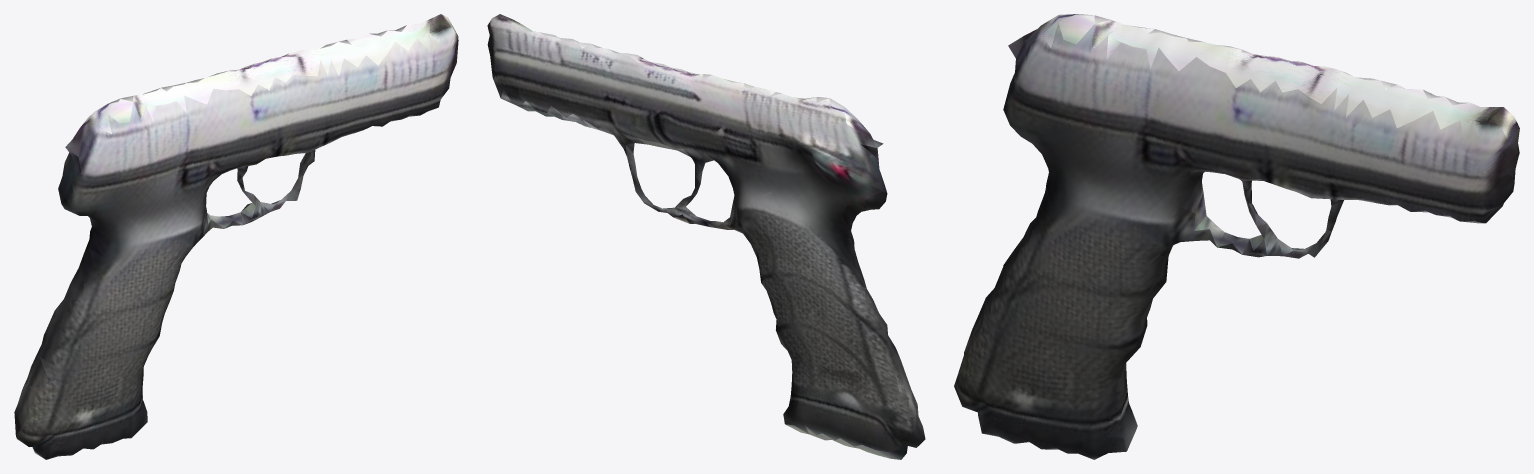
The model's file is pistol1-cv.glb.
3 renders of one model, left to right at view 1: azimuth 30°, elevation 25°; view 2: azimuth 150°, elevation 25°; view 3: azimuth 330°, elevation 25°, orthographic. The views are drawn at different scales.
Visible parts, largest first — view 1: geometry_0.013; view 2: geometry_0.013; view 3: geometry_0.013.
Part boxes in pixels (x1,y1,x2,y2): geometry_0.013: (14,14,458,459); geometry_0.013: (487,14,925,459); geometry_0.013: (954,14,1519,459).
Bounding box in the file's own units: 0.1938 × 0.1468 × 0.0252.
Materials: 1 (1 with a texture image).
